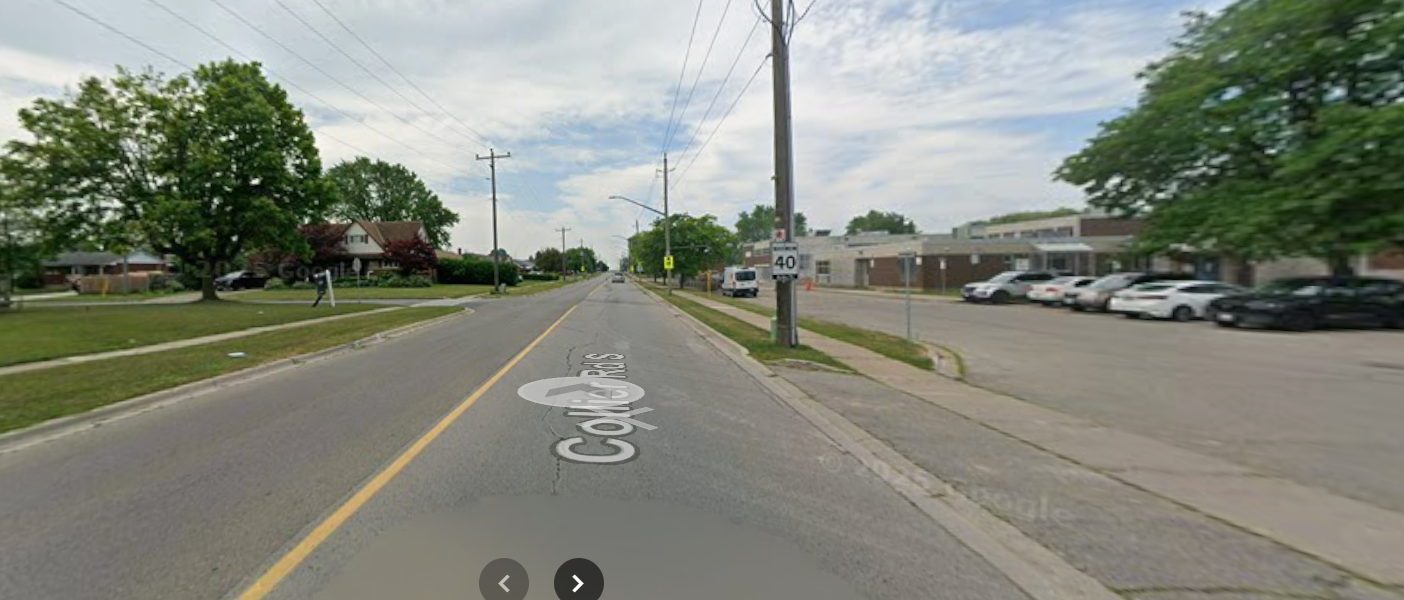cracks: (539, 330, 605, 383), (535, 454, 576, 506)
